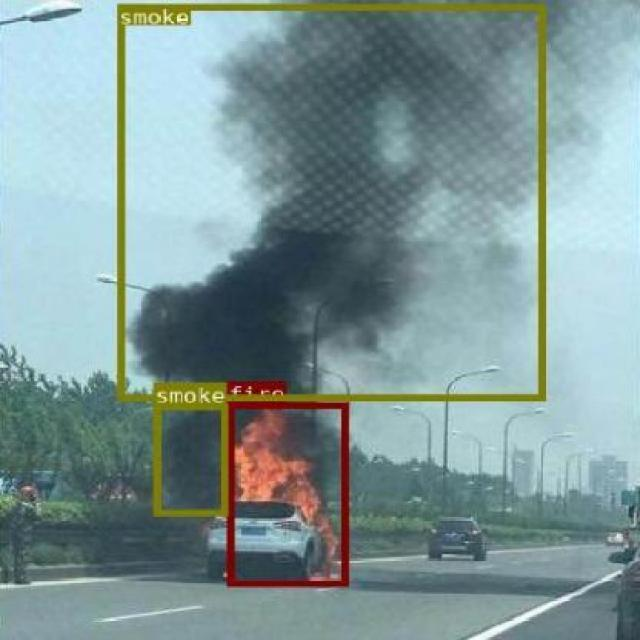CIV_Plane: (226, 400, 346, 586)
Fire: (226, 400, 346, 586)
Smoke: (117, 3, 543, 399), (87, 403, 163, 515)
